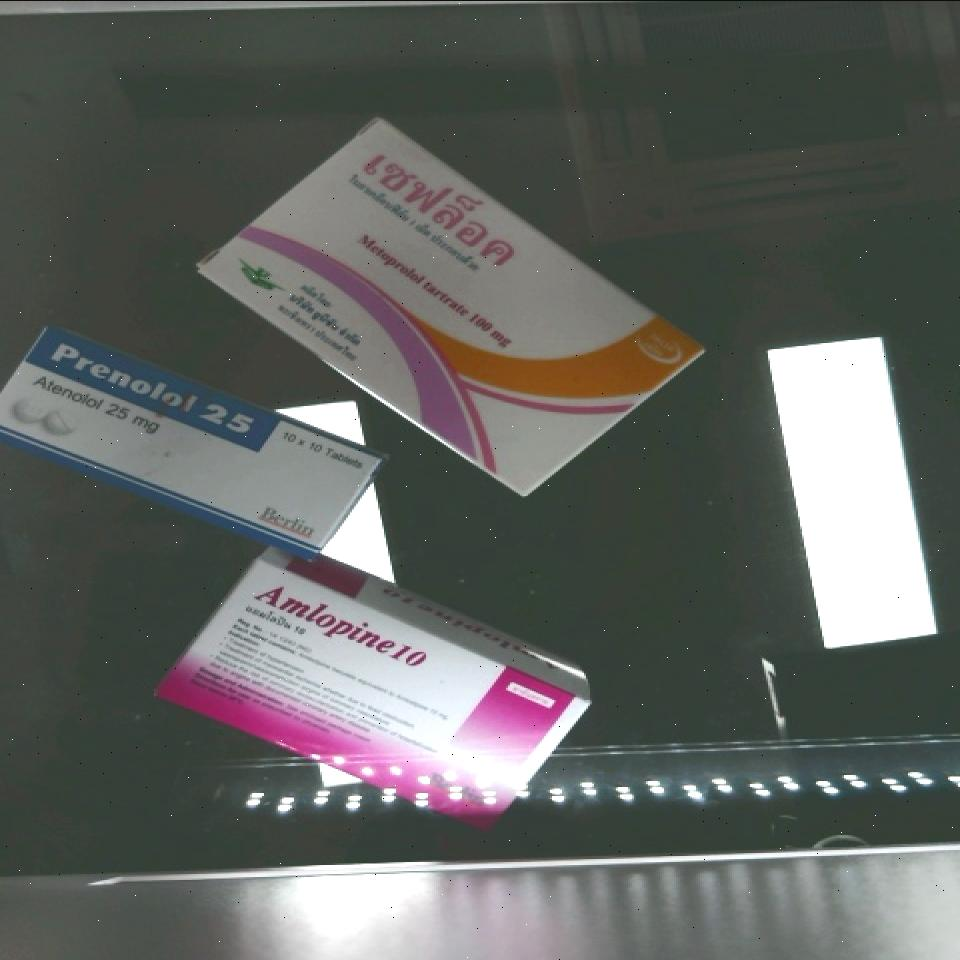medicine_box: (192, 82, 700, 534), (155, 541, 594, 854), (0, 318, 378, 572)
medicine_label_obb: (326, 113, 547, 296), (25, 321, 282, 457), (237, 563, 447, 688)
